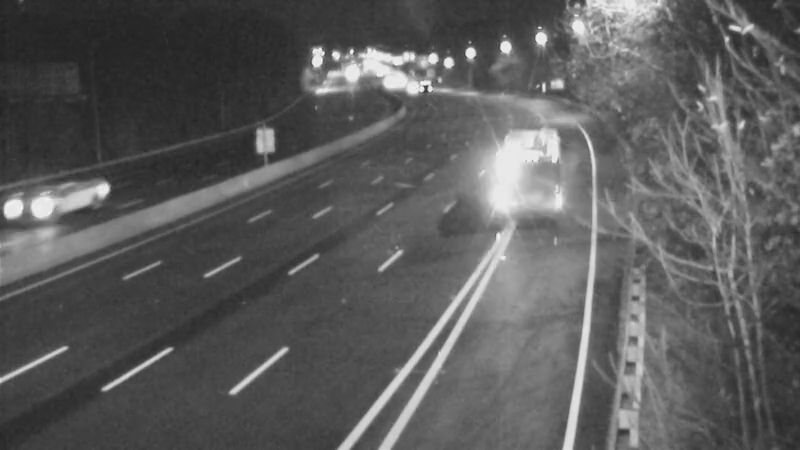vehicle: (480, 123, 560, 203), (12, 162, 92, 242), (362, 58, 412, 108), (394, 60, 444, 110), (386, 66, 436, 116)
